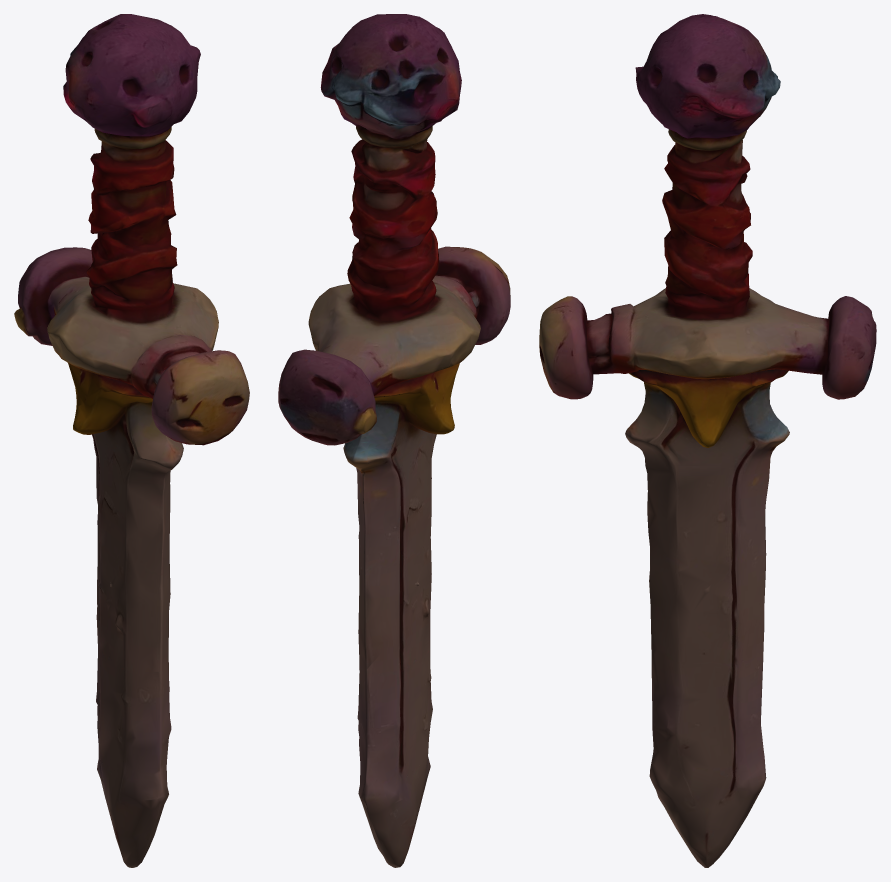
File: sword.glb
The picture shows the model from 3 angles, left to right: view 1: azimuth 30°, elevation 25°; view 2: azimuth 150°, elevation 25°; view 3: azimuth 270°, elevation 25°; orthographic projection.
Visible parts, largest first — view 1: tripo_node_fa1f9cf8-4c2d-4d00-9ea2-d33a0f8209b5; view 2: tripo_node_fa1f9cf8-4c2d-4d00-9ea2-d33a0f8209b5; view 3: tripo_node_fa1f9cf8-4c2d-4d00-9ea2-d33a0f8209b5.
Boxes of the visible parts, box(x1,y1,x2,y2) form: tripo_node_fa1f9cf8-4c2d-4d00-9ea2-d33a0f8209b5: box(14, 14, 249, 867); tripo_node_fa1f9cf8-4c2d-4d00-9ea2-d33a0f8209b5: box(278, 14, 510, 867); tripo_node_fa1f9cf8-4c2d-4d00-9ea2-d33a0f8209b5: box(539, 14, 876, 867).
Bounding box in the file's own units: 0.1861 × 1 × 0.3612.
1 material, 1 textured.
